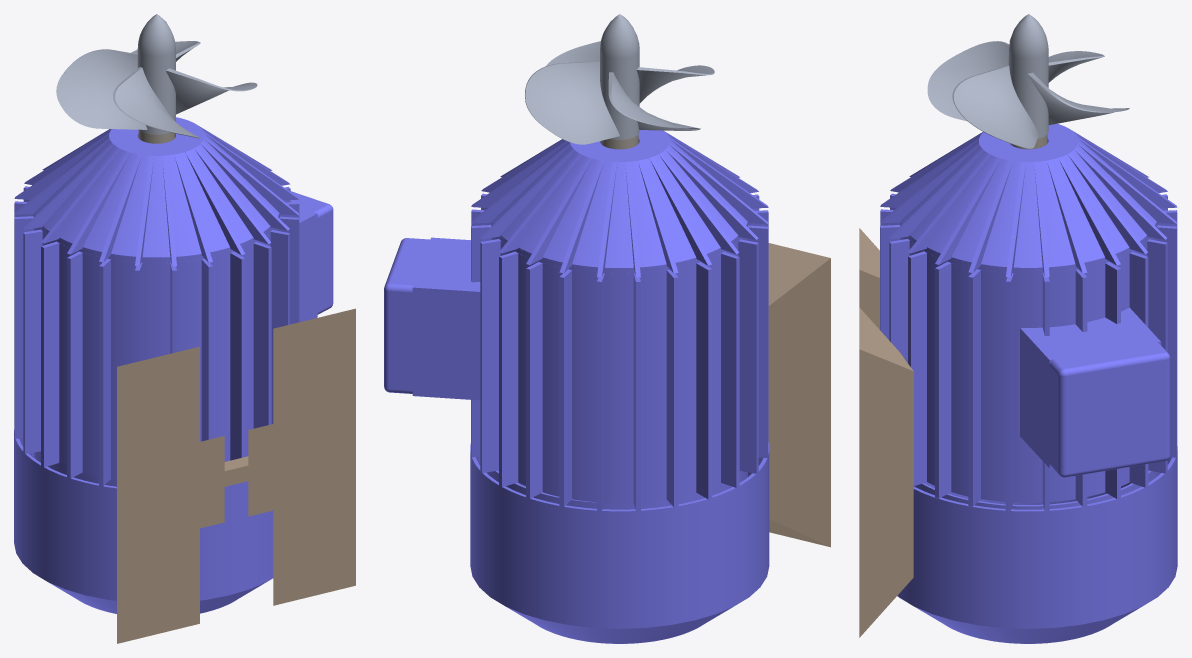
3 views of the same model, side by side, from view 1: azimuth 30°, elevation 25°; view 2: azimuth 150°, elevation 25°; view 3: azimuth 270°, elevation 25° (orthographic). The views are drawn at different scales.
Parts seen in each view (by area): view 1: Assem1.IGS (×5); view 2: Assem1.IGS (×5); view 3: Assem1.IGS (×5).
Boxes of the visible parts, box(x1,y1,x2,y2) form: Assem1.IGS (×5): box(14, 14, 355, 643); Assem1.IGS (×5): box(384, 14, 830, 643); Assem1.IGS (×5): box(859, 14, 1177, 643).
Size of the model in its own units: 0.1911 by 0.3253 by 0.1597.
